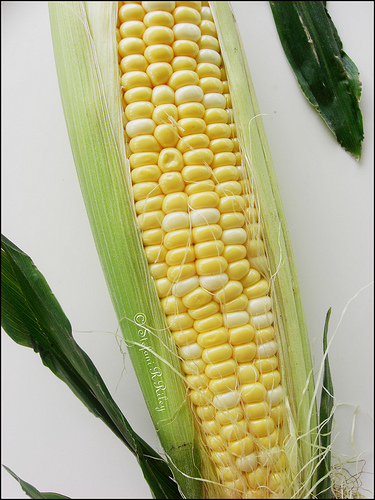corn: (46, 2, 341, 496)
